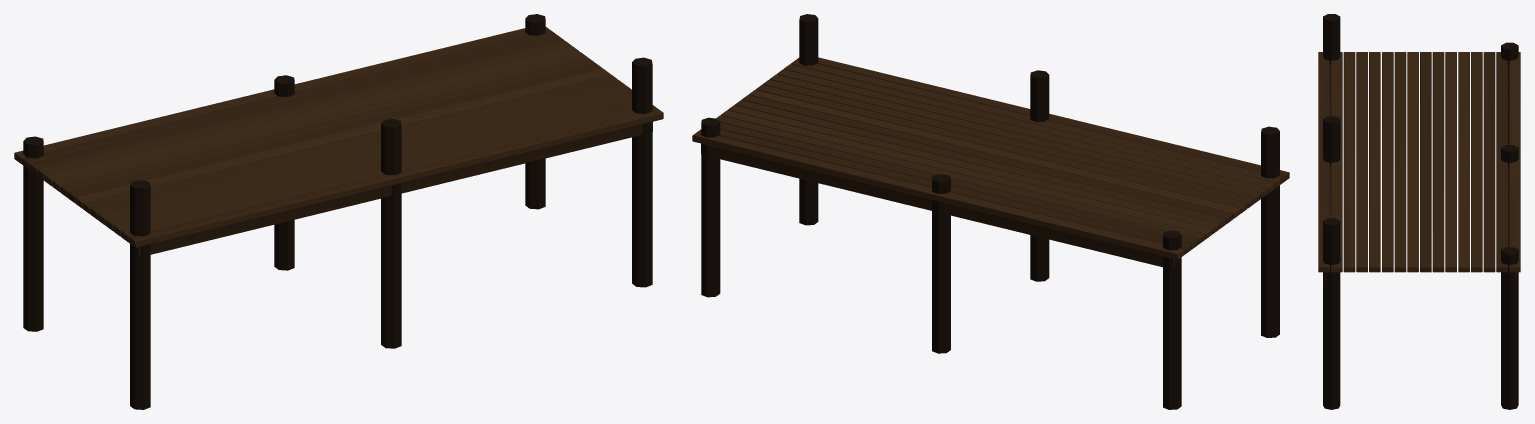
The model's file is hz-dock.glb.
3 renders of one model, left to right at view 1: azimuth 30°, elevation 25°; view 2: azimuth 150°, elevation 25°; view 3: azimuth 270°, elevation 25°, orthographic. The views are drawn at different scales.
Parts seen in each view (by area): view 1: planks__wood, posts__wood; view 2: planks__wood, posts__wood; view 3: planks__wood, posts__wood.
Part boxes in pixels (x1=…): planks__wood: x1=14, y1=27, x2=663, y2=257; posts__wood: x1=23, y1=14, x2=652, y2=409; planks__wood: x1=692, y1=57, x2=1289, y2=269; posts__wood: x1=701, y1=14, x2=1279, y2=409; planks__wood: x1=1318, y1=52, x2=1520, y2=281; posts__wood: x1=1323, y1=14, x2=1518, y2=409.
Size of the model in its own units: 4 by 1.6 by 1.59.
